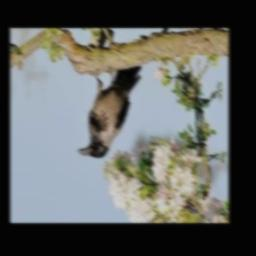Crow: (79, 69, 143, 158)
